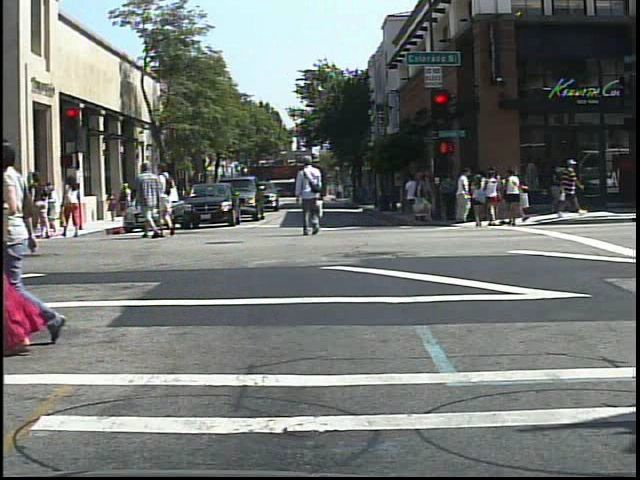person: (3, 130, 84, 353), (0, 129, 19, 364), (296, 153, 331, 242), (133, 156, 167, 243), (553, 154, 586, 219), (29, 167, 56, 244), (63, 170, 87, 240), (160, 160, 180, 239), (469, 172, 488, 231)
